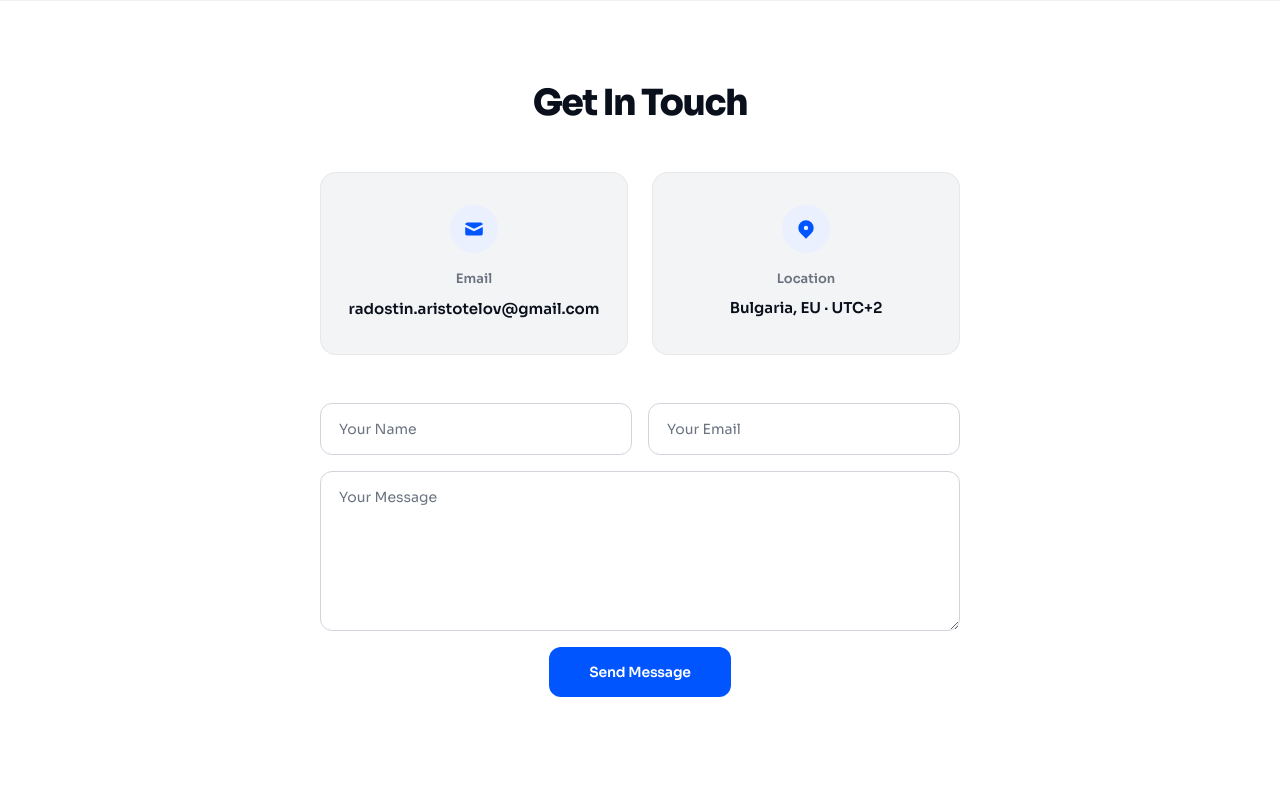
Scenario: Contact form › invalid submission › shows an error under every empty field
Step 1. Click the button "Send Message" → {"x": 640, "y": 672}, box [549,647,731,697]
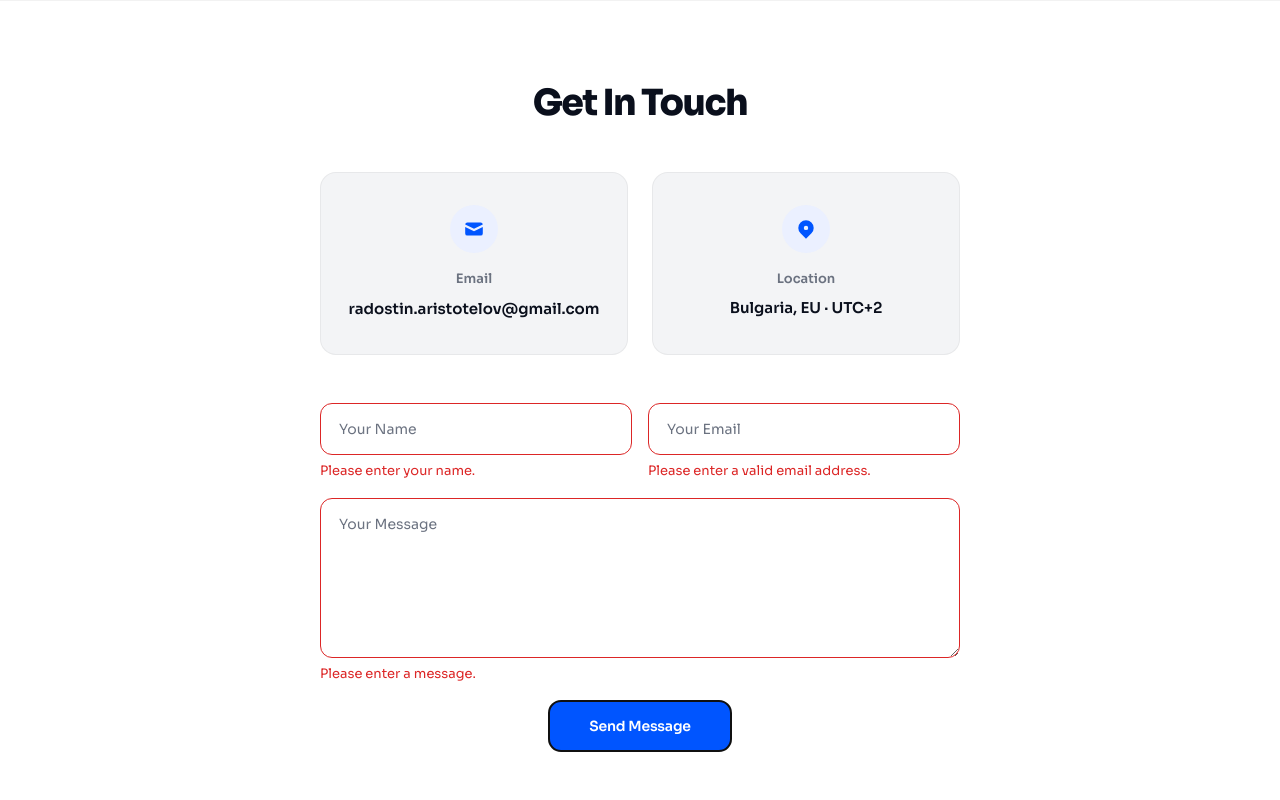
Expected: the text "Please enter your name." is shown, [320,462,475,479]
Expected: the text "Please enter a valid email address." is shown, [648,462,871,479]
Expected: the text "Please enter a message." is shown, [320,665,476,682]
